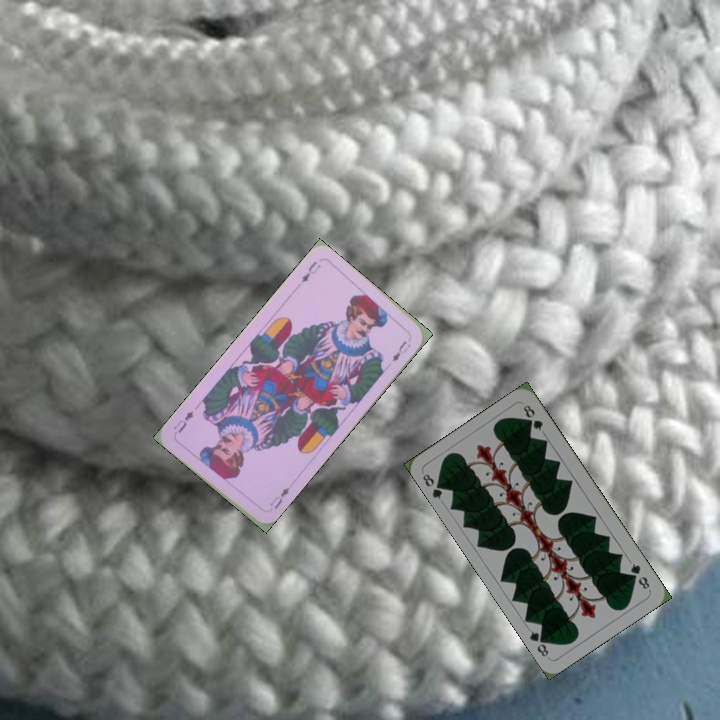EU: (297, 257, 324, 285), (266, 483, 292, 512)
G8: (418, 470, 448, 502), (626, 559, 652, 592)
